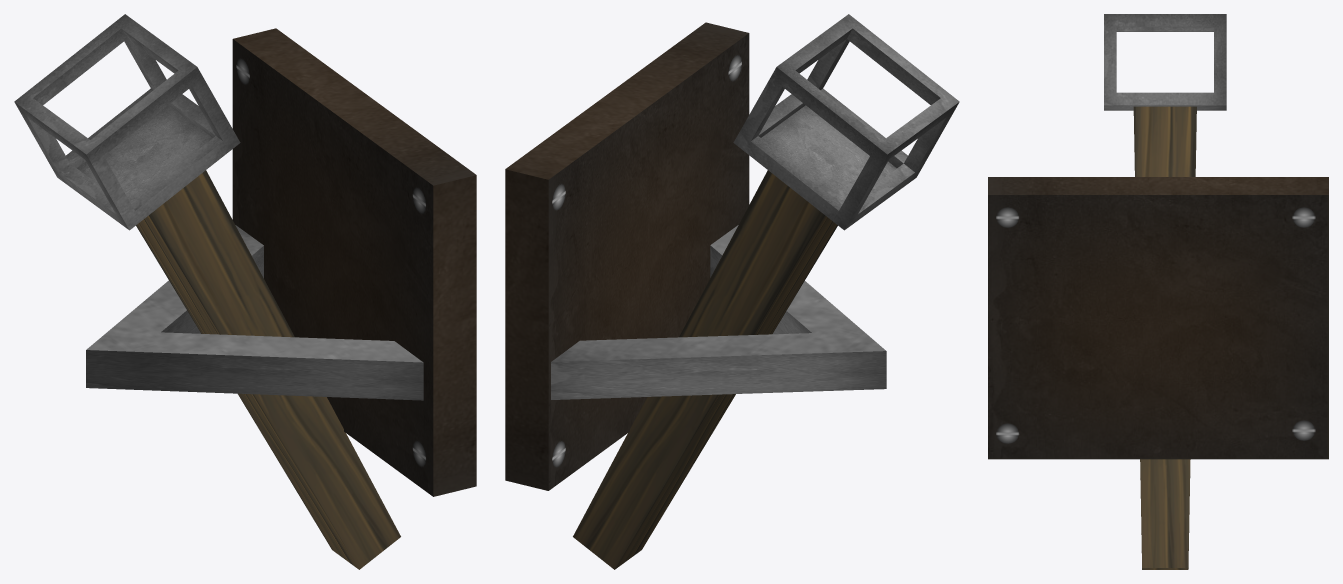
File: mesale.FBX
3 views of the same model, side by side, from view 1: azimuth 30°, elevation 25°; view 2: azimuth 150°, elevation 25°; view 3: azimuth 270°, elevation 25° (orthographic). The views are drawn at different scales.
Parts seen in each view (by area): view 1: Box01; view 2: Box01; view 3: Box01.
Part boxes in pixels (box(x1,y1,x2,y2)): Box01: box(14, 14, 476, 569); Box01: box(505, 14, 959, 569); Box01: box(988, 14, 1328, 569).
Bounding box in the file's own units: 78.51 × 126 × 80.89.
